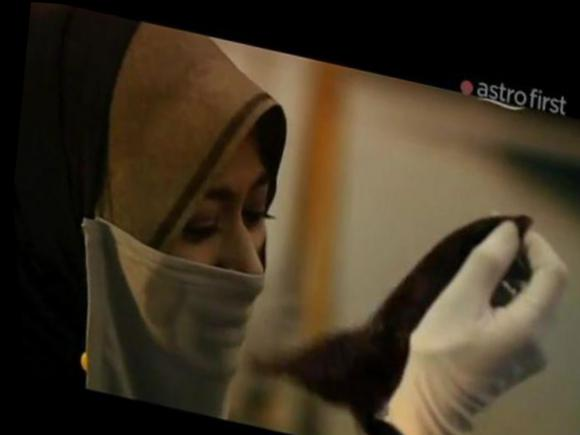WRONG: (104, 117, 293, 390)
